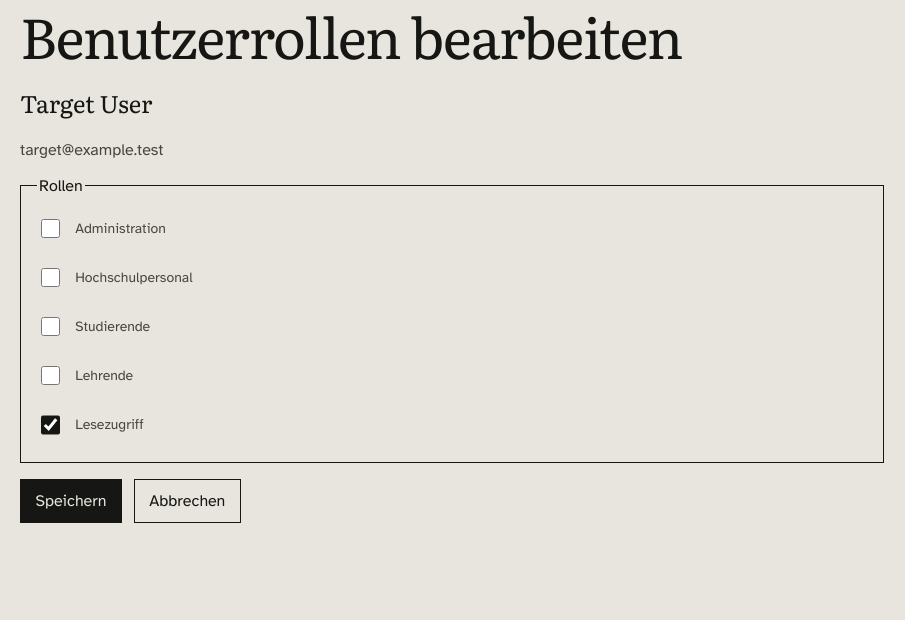
Test: role management page › requires explicit review after conflict before a new save
The width and height of the screenshot is (905, 620).
Expected: the heading "Target User" is shown, [20,85,152,120]
Click the checkbox labelled "Studierende": (51, 327) [41,317,60,336]
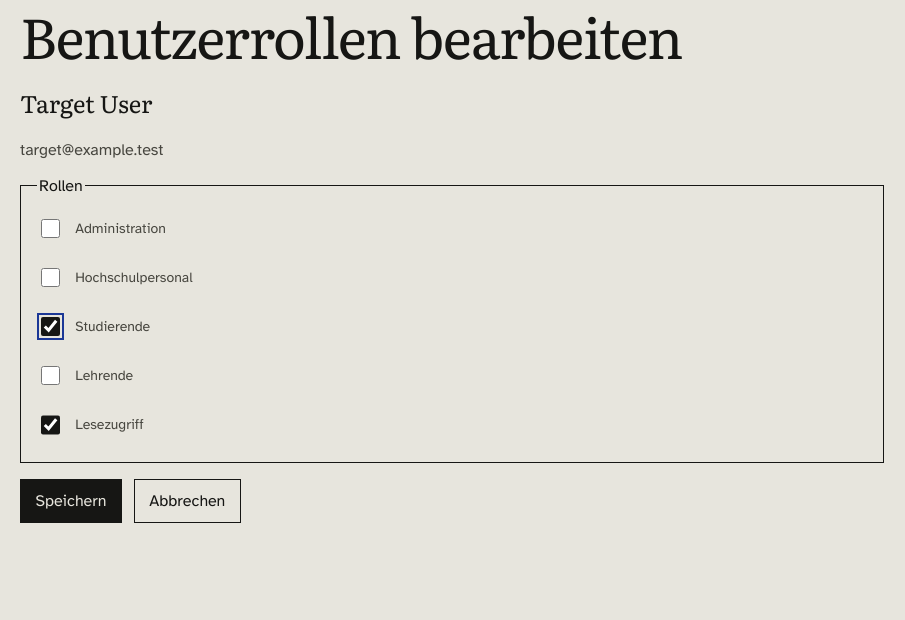
Click the button "Speichern": (71, 500) [20,478,122,522]
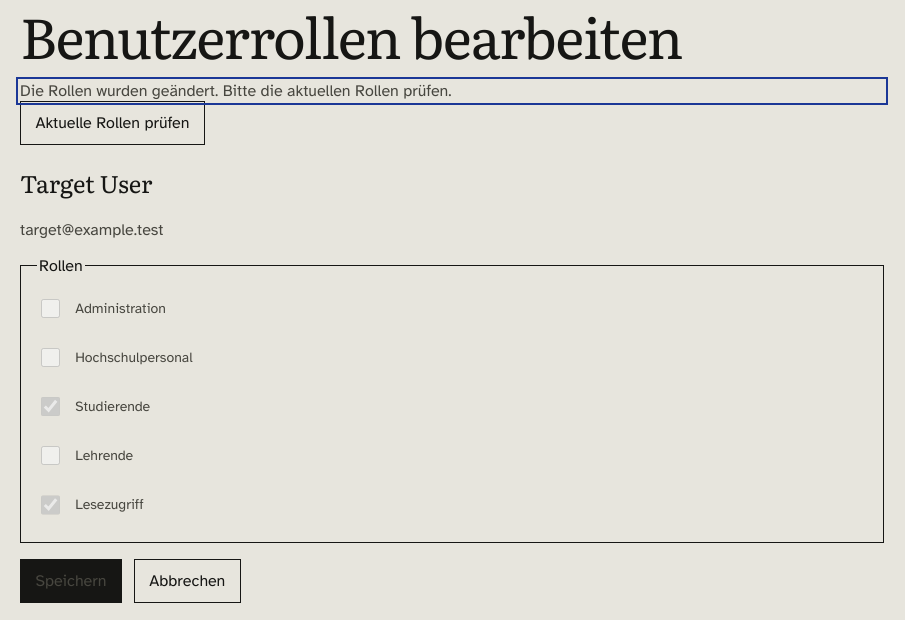
Expected: the button "Speichern" is disabled, [20,558,122,602]
Click the button "Aktuelle Rollen prüfen": (112, 123) [20,101,205,145]
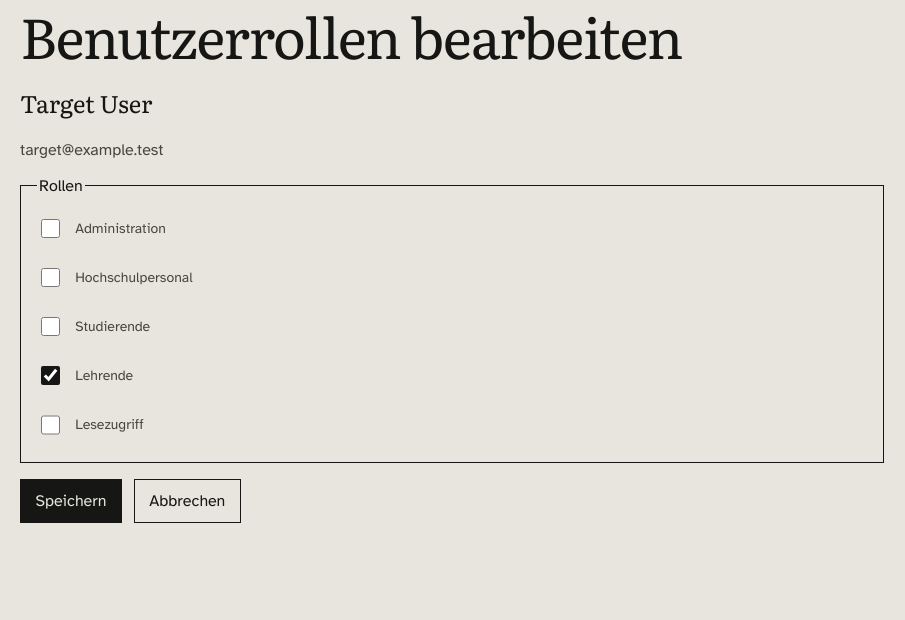
Expected: the checkbox labelled "Studierende" is not checked
Expected: the checkbox labelled "Lehrende" is checked, [41,366,60,385]
Click the checkbox labelled "Studierende": (51, 327) [41,317,60,336]
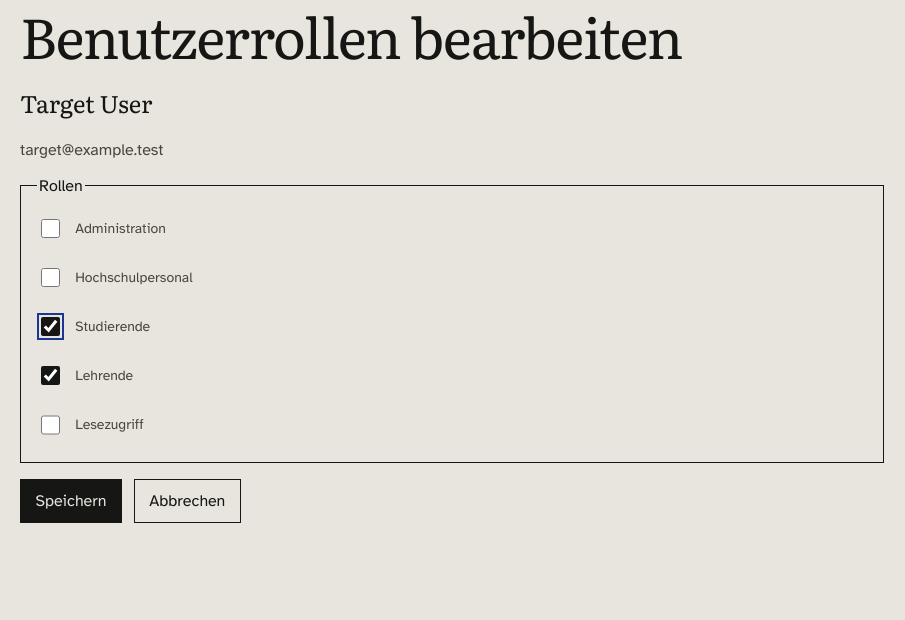
Click the button "Speichern": (71, 500) [20,478,122,522]
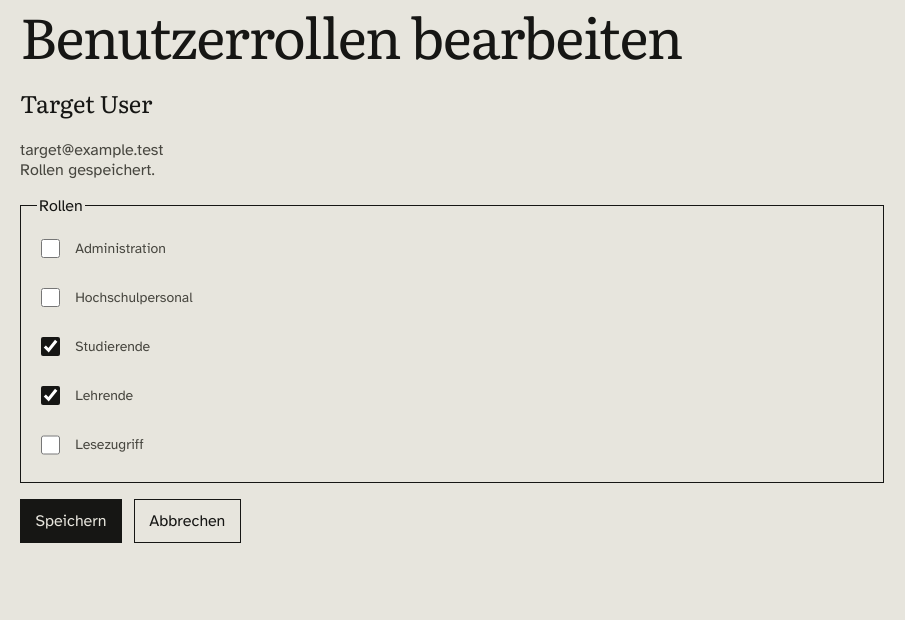
Expected: the text "Rollen gespeichert." is shown, [20,160,155,180]
